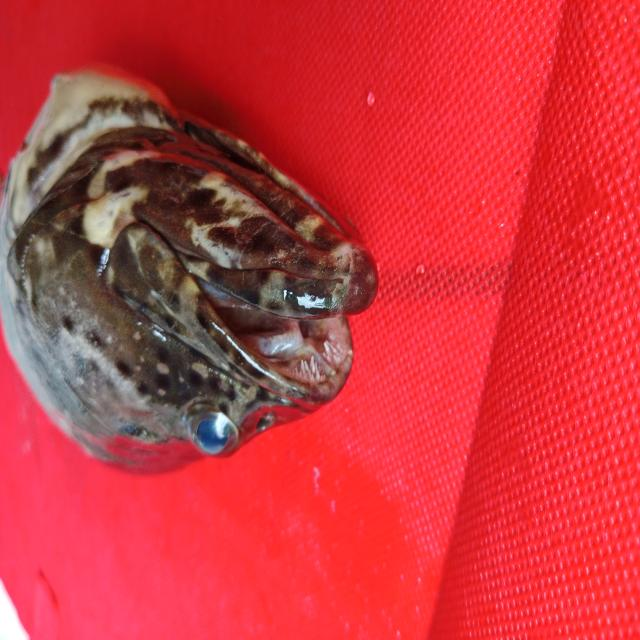ikan: (4, 25, 400, 484)
